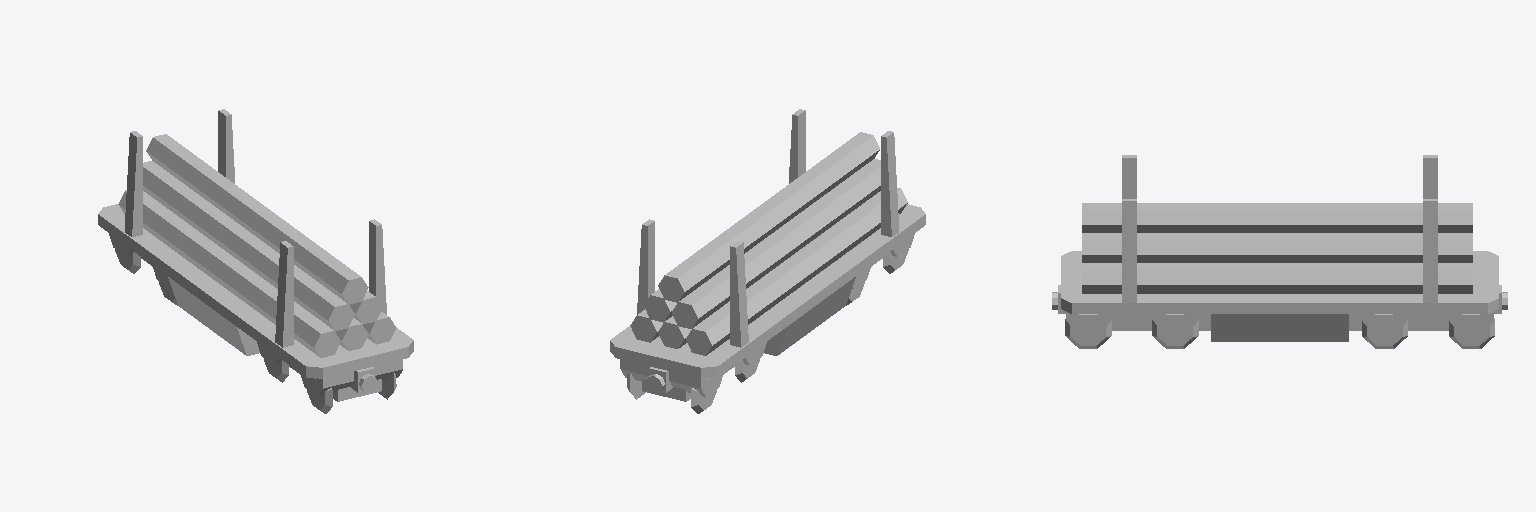
The model's file is SM_Veh_Carriage_Pipes_01.obj.
3 renders of one model, left to right at view 1: azimuth 30°, elevation 25°; view 2: azimuth 150°, elevation 25°; view 3: azimuth 270°, elevation 25°, orthographic.
Visible parts, largest first — view 1: SM_Veh_Carriage_Pipes_01:Mesh; view 2: SM_Veh_Carriage_Pipes_01:Mesh; view 3: SM_Veh_Carriage_Pipes_01:Mesh.
Boxes of the visible parts, box(x1,y1,x2,y2) form: SM_Veh_Carriage_Pipes_01:Mesh: box(98, 109, 413, 413); SM_Veh_Carriage_Pipes_01:Mesh: box(610, 109, 925, 413); SM_Veh_Carriage_Pipes_01:Mesh: box(1052, 155, 1507, 348).
Size of the model in its own units: 4.5 by 6.18 by 16.45.